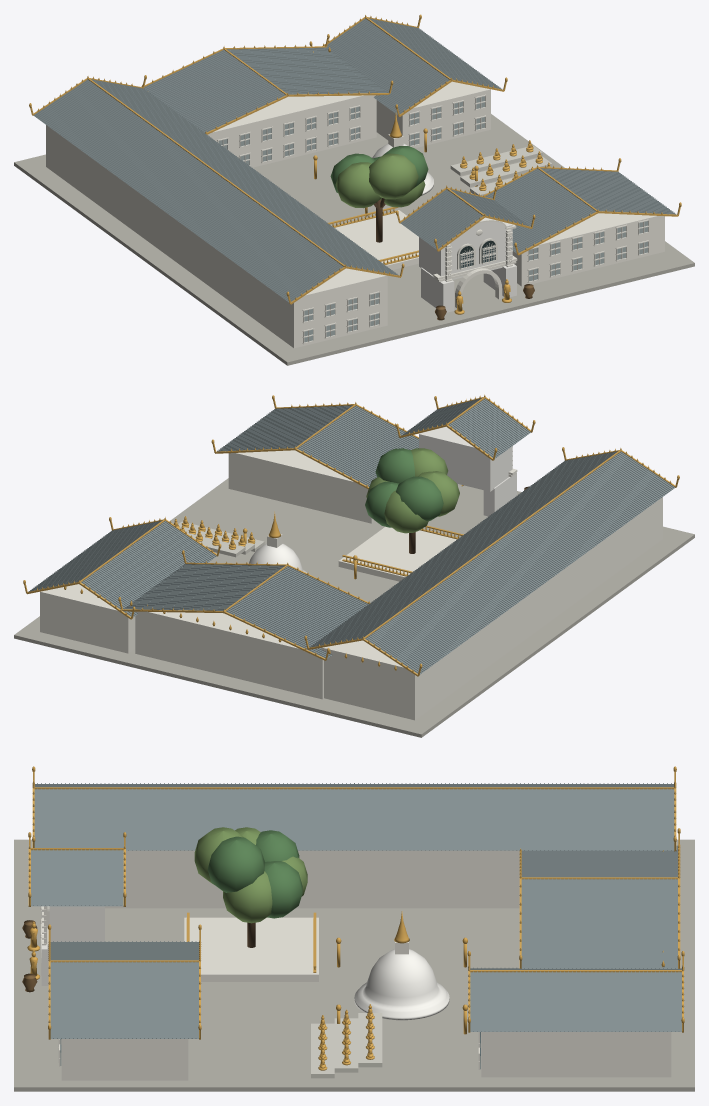
The model's file is gangaramaya.glb.
3 views of the same model, one above another, from view 1: azimuth 30°, elevation 25°; view 2: azimuth 150°, elevation 25°; view 3: azimuth 270°, elevation 25° (orthographic). The views are drawn at different scales.
Parts seen in each view (by area): view 1: 01 Main temple compound / Roof tile, 01 Main temple compound / Roof tile.001, 01 Main temple compound / Ivory, 01 Main temple compound / Paving, 01 Main temple compound / Gold, 05 Bodhi tree enclosure / Leaves light, 02 White entrance gateway / White plaster, 01 Main temple compound / Glass shade, 02 White entrance gateway / Roof tile, 05 Bodhi tree enclosure / Ivory, 02 White entrance gateway / Roof tile.001, 06 Terraced Buddha court / Limestone (+6 smaller); view 2: 01 Main temple compound / Roof tile, 01 Main temple compound / Roof tile.001, 01 Main temple compound / Ivory, 01 Main temple compound / Paving, 01 Main temple compound / Gold, 02 White entrance gateway / White plaster, 05 Bodhi tree enclosure / Leaves, 05 Bodhi tree enclosure / Ivory, 05 Bodhi tree enclosure / Leaves light, 02 White entrance gateway / Roof tile, 02 White entrance gateway / Roof tile.001, 06 Terraced Buddha court / Limestone (+5 smaller); view 3: 01 Main temple compound / Roof tile, 01 Main temple compound / Paving, 01 Main temple compound / Ivory, 01 Main temple compound / Roof tile.001, 05 Bodhi tree enclosure / Ivory, 02 White entrance gateway / Roof tile, 05 Bodhi tree enclosure / Leaves, 01 Main temple compound / Gold, 04 Dagoba and courtyard shrines / White plaster, 05 Bodhi tree enclosure / Leaves light, 06 Terraced Buddha court / Limestone, 02 White entrance gateway / White plaster (+5 smaller).
Boxes of the visible parts, <box> form: 01 Main temple compound / Roof tile: <box>33,18,675,302</box>; 01 Main temple compound / Roof tile.001: <box>34,18,675,300</box>; 01 Main temple compound / Ivory: <box>46,81,664,348</box>; 01 Main temple compound / Paving: <box>14,114,694,365</box>; 01 Main temple compound / Gold: <box>30,17,680,304</box>; 05 Bodhi tree enclosure / Leaves light: <box>335,153,425,208</box>; 02 White entrance gateway / White plaster: <box>419,217,516,312</box>; 01 Main temple compound / Glass shade: <box>219,96,647,341</box>; 02 White entrance gateway / Roof tile: <box>400,189,525,249</box>; 05 Bodhi tree enclosure / Ivory: <box>334,210,418,269</box>; 02 White entrance gateway / Roof tile.001: <box>401,189,530,247</box>; 06 Terraced Buddha court / Limestone: <box>450,145,552,195</box>; 01 Main temple compound / Roof tile: <box>30,406,675,674</box>; 01 Main temple compound / Roof tile.001: <box>28,405,674,673</box>; 01 Main temple compound / Ivory: <box>40,450,662,720</box>; 01 Main temple compound / Paving: <box>14,478,694,737</box>; 01 Main temple compound / Gold: <box>24,399,678,676</box>; 02 White entrance gateway / White plaster: <box>419,426,516,516</box>; 05 Bodhi tree enclosure / Leaves: <box>365,448,443,527</box>; 05 Bodhi tree enclosure / Ivory: <box>338,526,456,581</box>; 05 Bodhi tree enclosure / Leaves light: <box>366,448,459,533</box>; 02 White entrance gateway / Roof tile: <box>406,398,530,458</box>; 02 White entrance gateway / Roof tile.001: <box>401,398,529,457</box>; 06 Terraced Buddha court / Limestone: <box>178,521,264,557</box>; 01 Main temple compound / Roof tile: <box>34,784,681,1038</box>; 01 Main temple compound / Paving: <box>14,839,694,1091</box>; 01 Main temple compound / Ivory: <box>58,850,671,1080</box>; 01 Main temple compound / Roof tile.001: <box>37,783,679,1038</box>; 05 Bodhi tree enclosure / Ivory: <box>184,917,318,981</box>; 02 White entrance gateway / Roof tile: <box>31,850,123,906</box>; 05 Bodhi tree enclosure / Leaves: <box>207,830,302,918</box>; 01 Main temple compound / Gold: <box>32,771,683,1039</box>; 04 Dagoba and courtyard shrines / White plaster: <box>354,949,449,1020</box>; 05 Bodhi tree enclosure / Leaves light: <box>194,827,307,923</box>; 06 Terraced Buddha court / Limestone: <box>311,1013,382,1078</box>; 02 White entrance gateway / White plaster: <box>41,906,104,985</box>.
Size of the model in its own units: 74.17 by 17.8 by 86.
